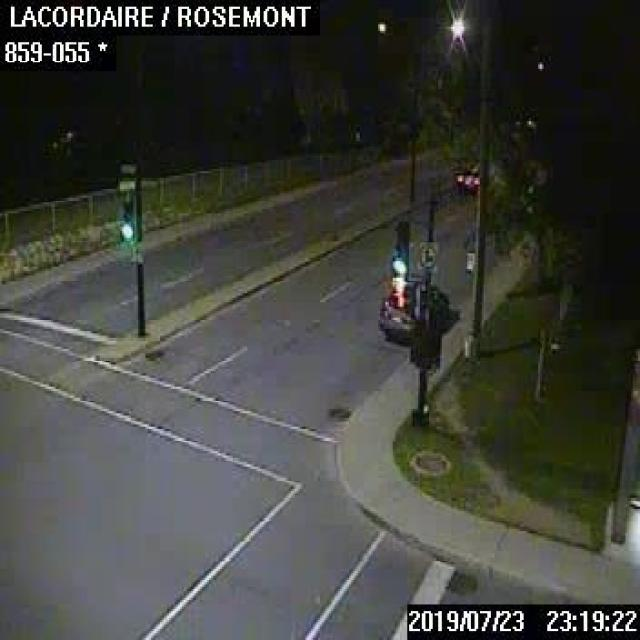vehicle: (377, 283, 446, 340), (456, 171, 477, 188)
